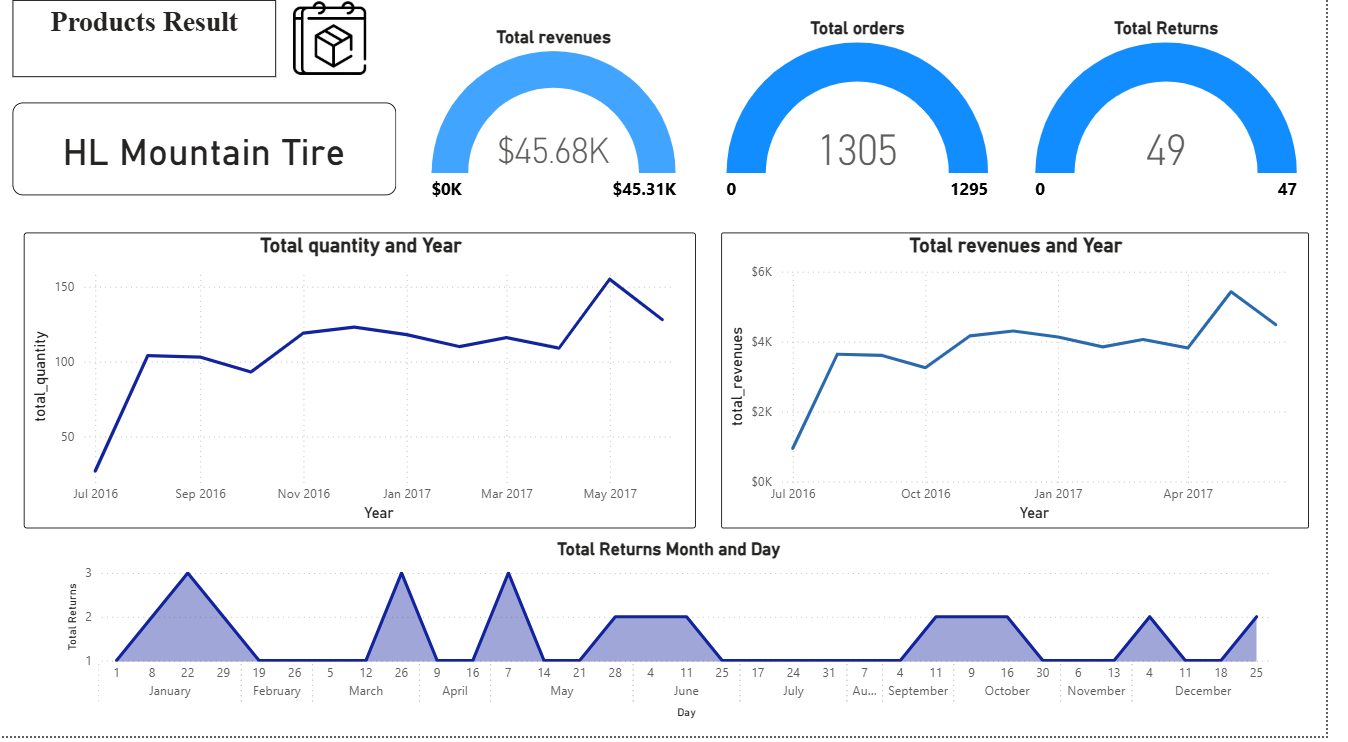

This screenshot's page, from the dashboard's own definition file:
{"tool":"powerbi","page":{"name":"Products","canvas":[1280,720],"ordinal":1},"visuals":[{"type":"card","fields":{"Values":["Min(Products.ProductName)"]},"box":[12.1,108.6,370.4,89.3],"z":0},{"type":"gauge","title":"Total revenues ","fields":{"MaxValue":["Sales.target_revenues"],"Y":["Sales.total_revenues"]},"box":[382.4,35,304,178.6],"z":1000},{"type":"gauge","title":"Total Returns ","fields":{"MaxValue":["Returns.target_return"],"Y":["Returns.Total Returns"]},"box":[971.2,26.5,308.8,187],"z":2000},{"type":"gauge","title":"Total orders ","fields":{"MaxValue":["Sales.order_target"],"Y":["Sales.total_orders"]},"box":[686.5,26.5,282.3,187],"z":3000},{"type":"lineChart","title":"Total quantity and  Year","fields":{"Y":["Sales.total_quantity"],"Category":["Calendar.Start of Month.Variation.Date Hierarchy.Year","Calendar.Start of Month.Variation.Date Hierarchy.Quarter","Calendar.Start of Month.Variation.Date Hierarchy.Month","Calendar.Start of Month.Variation.Date Hierarchy.Day"]},"box":[22.9,234,649.1,285.9],"z":4000},{"type":"lineChart","title":"Total revenues and Year","fields":{"Y":["Sales.total_revenues"],"Category":["Calendar.Start of Month.Variation.Date Hierarchy.Year","Calendar.Start of Month.Variation.Date Hierarchy.Quarter","Calendar.Start of Month.Variation.Date Hierarchy.Month","Calendar.Start of Month.Variation.Date Hierarchy.Day"]},"box":[696.1,234,567,285.9],"z":5000},{"type":"areaChart","title":"Total Returns  Month and Day","fields":{"Y":["Returns.Total Returns"],"Category":["Calendar.Start of Week.Variation.Date Hierarchy.Month","Calendar.Start of Week.Variation.Date Hierarchy.Day"]},"box":[59.1,529.6,1172.7,178.6],"z":6000},{"type":"textbox","box":[12.1,9.7,254.6,74.8],"z":7000},{"type":"image","box":[254.6,1.2,127.9,90.5],"z":8000}]}

Visuals, with their boxes in screenshot pixels (x1, y1, x2, y2), scaled from the page's 1280x720 canvas onto the 1348x742 screenshot:
card - Min(Products.ProductName): detection(13, 112, 403, 204)
"Total revenues " gauge: detection(403, 36, 723, 220)
"Total Returns " gauge: detection(1023, 27, 1347, 220)
"Total orders " gauge: detection(723, 27, 1020, 220)
"Total quantity and  Year" lineChart: detection(24, 241, 708, 536)
"Total revenues and Year" lineChart: detection(733, 241, 1330, 536)
"Total Returns  Month and Day" areaChart: detection(62, 546, 1297, 730)
textbox: detection(13, 10, 281, 87)
image: detection(268, 1, 403, 95)
